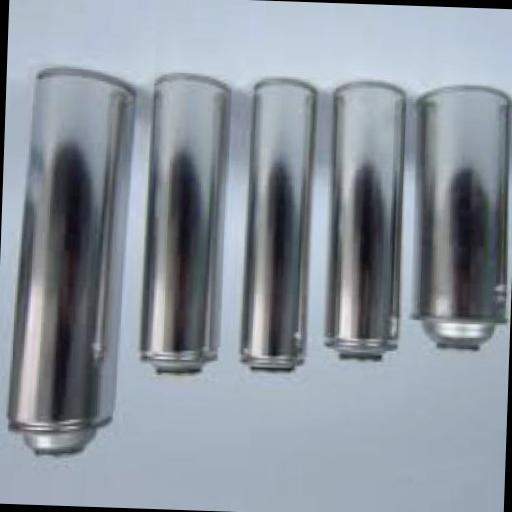metal: (9, 72, 140, 462), (140, 76, 231, 378), (410, 85, 512, 353), (324, 86, 410, 370), (244, 80, 318, 378)
